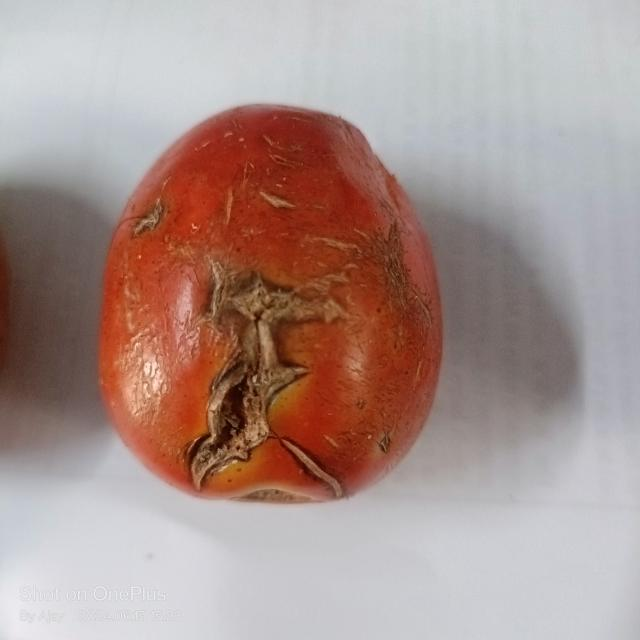tomato_cracking: (184, 275, 355, 495)
